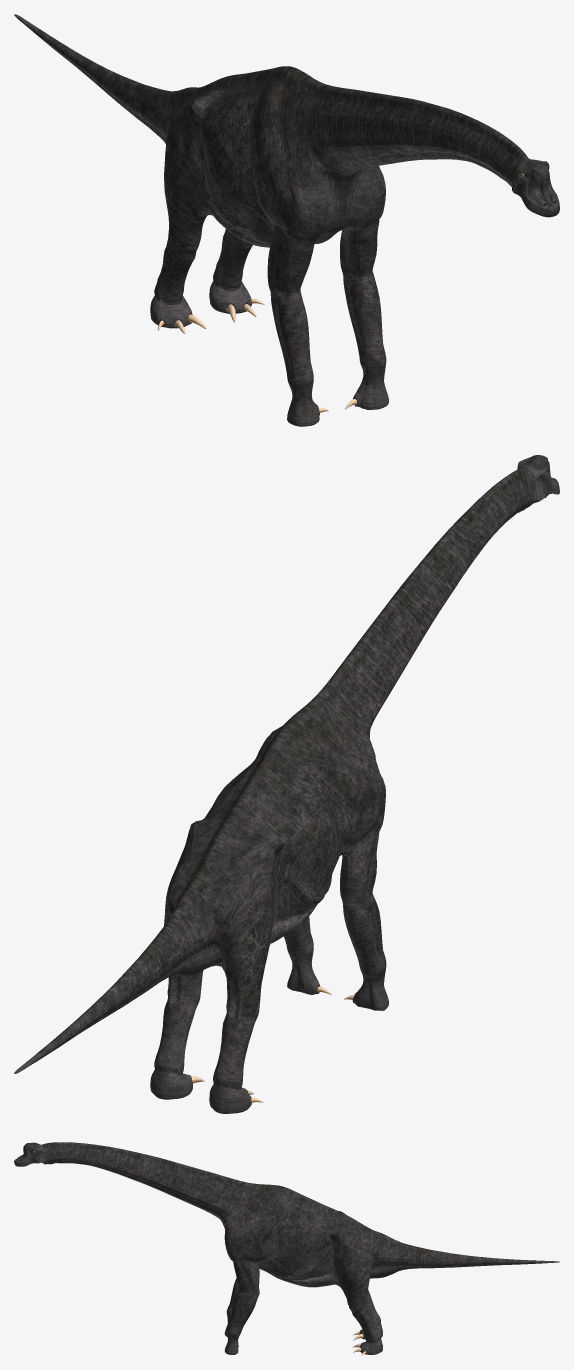
File: braqui.obj
The picture shows the model from 3 angles, top to bottom: view 1: azimuth 30°, elevation 25°; view 2: azimuth 150°, elevation 25°; view 3: azimuth 270°, elevation 25°; orthographic projection. The views are drawn at different scales.
Parts seen in each view (by area): view 1: braquio:polySurface30; view 2: braquio:polySurface30; view 3: braquio:polySurface30.
Boxes of the visible parts, x1,y1,x2,y2 form: braquio:polySurface30: (14,14,559,426); braquio:polySurface30: (14,455,559,1113); braquio:polySurface30: (14,1142,559,1355).
Bounding box in the file's own units: 2.58 × 9 × 22.12.
4 materials, 4 textured.
